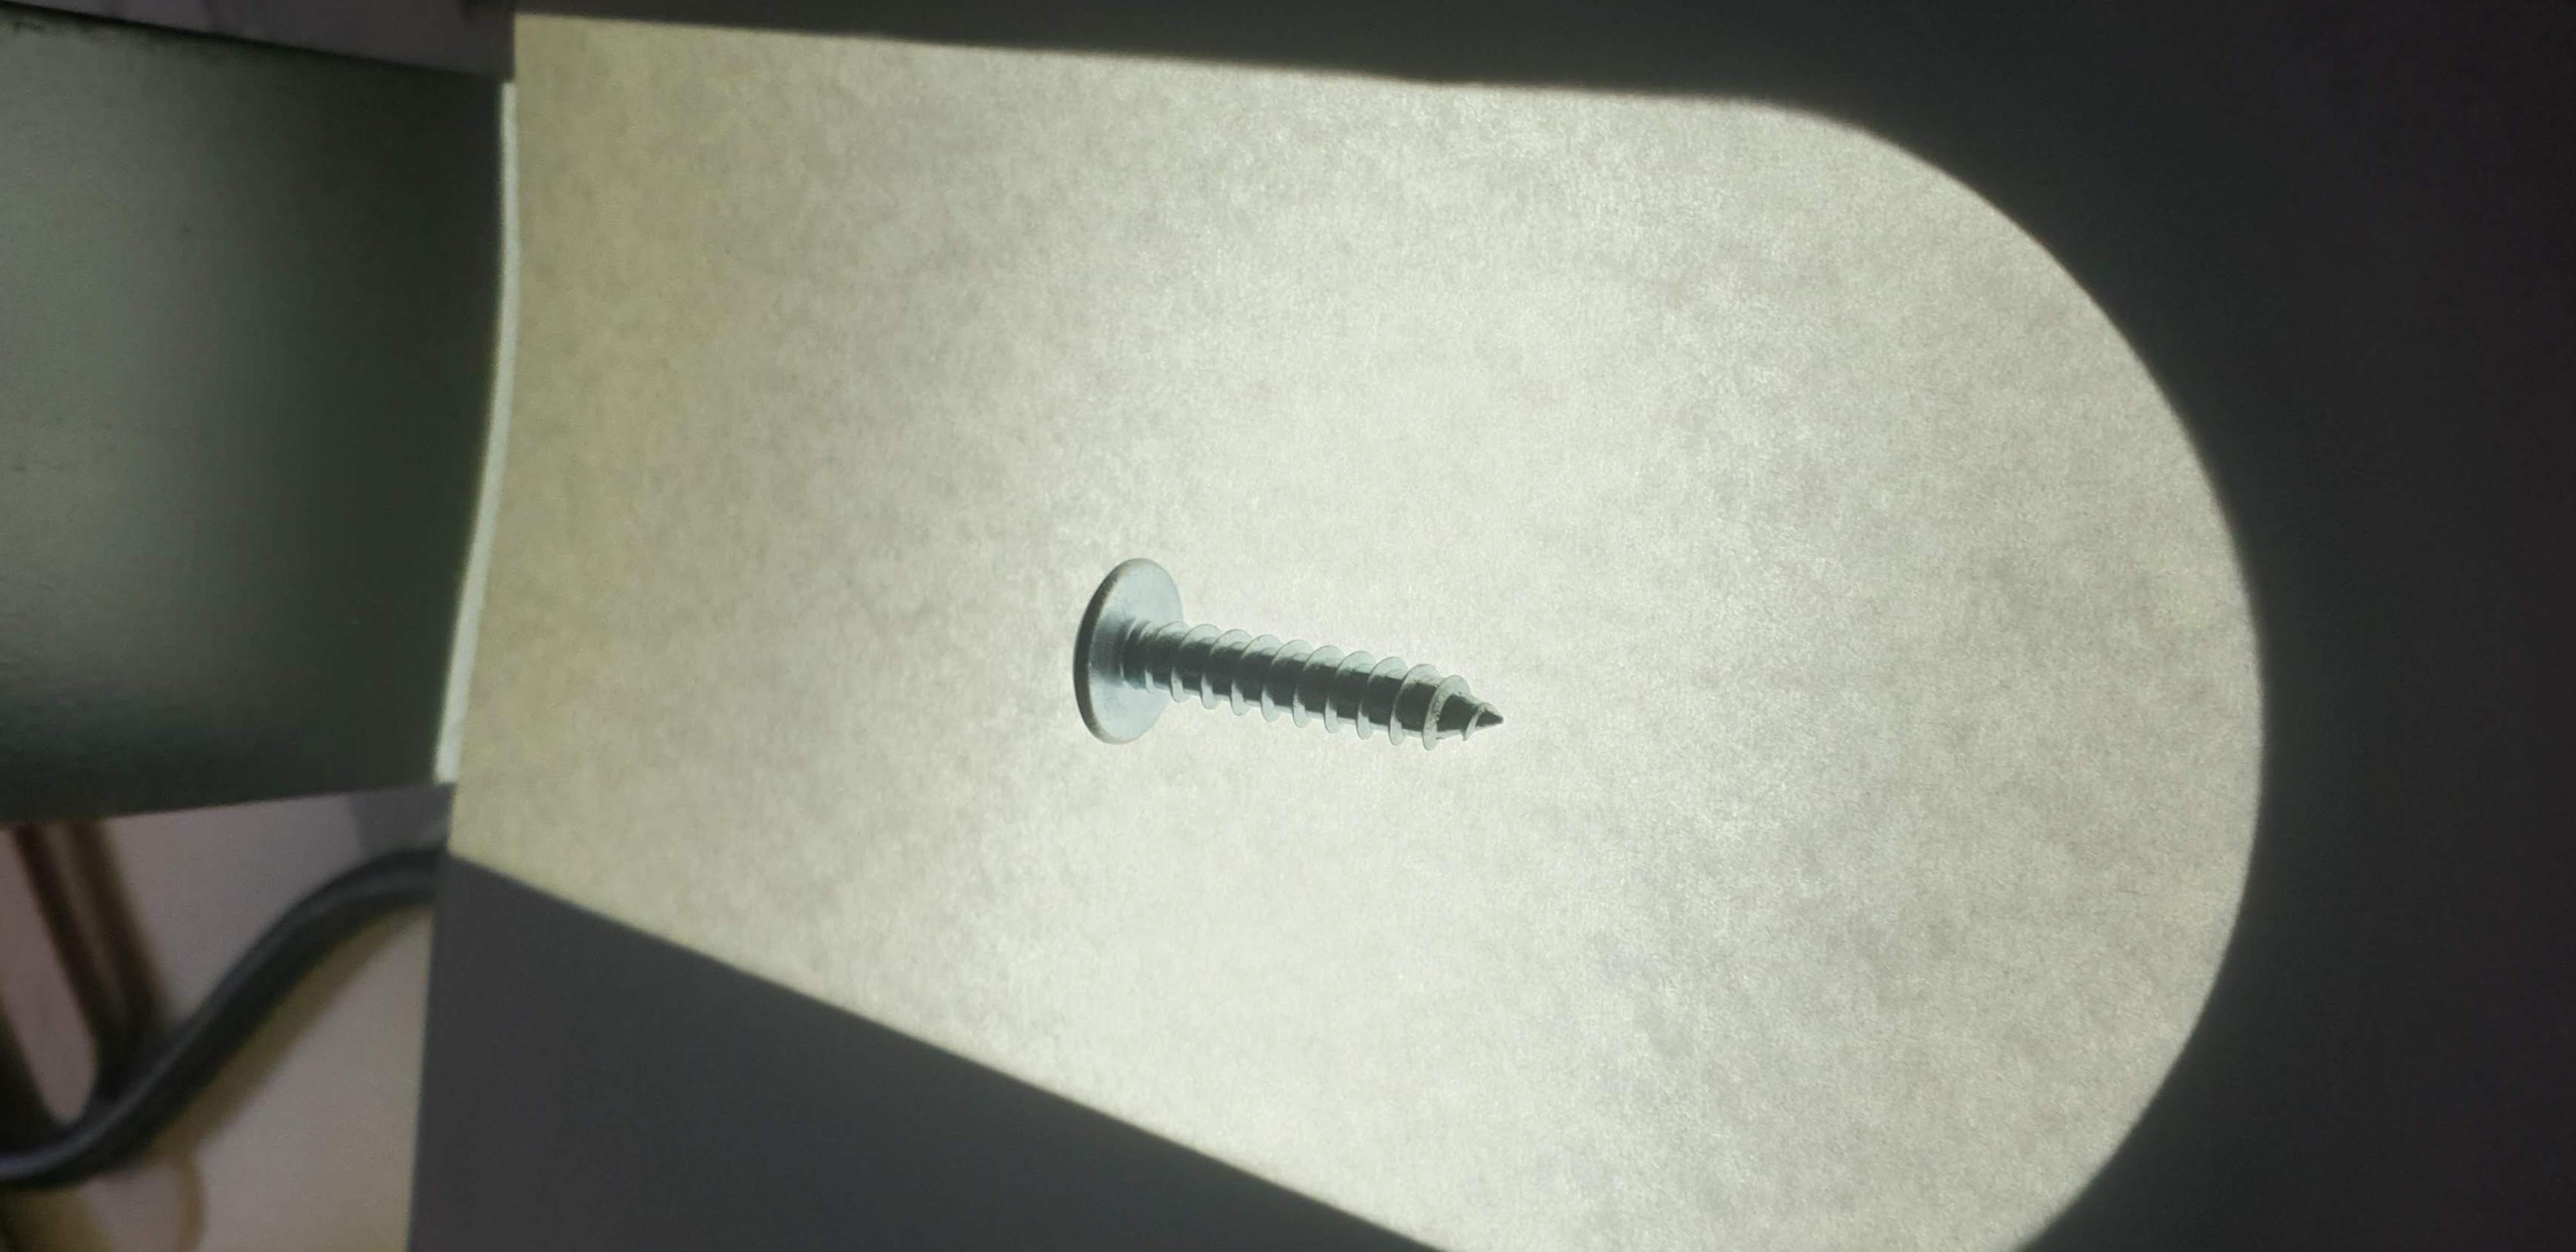S002: (1022, 518, 1559, 818)
